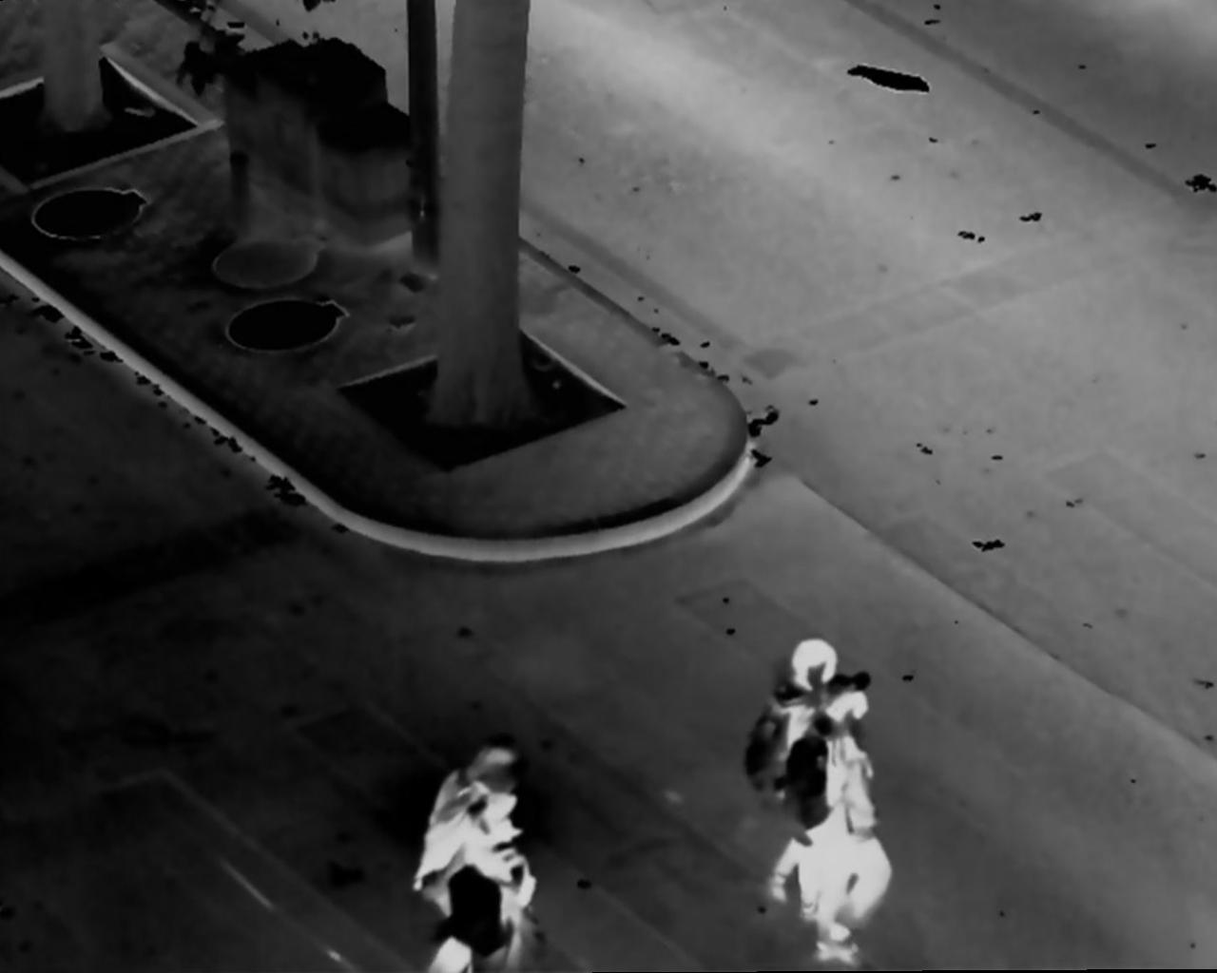person: (409, 741, 549, 973), (790, 667, 893, 969), (745, 627, 840, 915)
